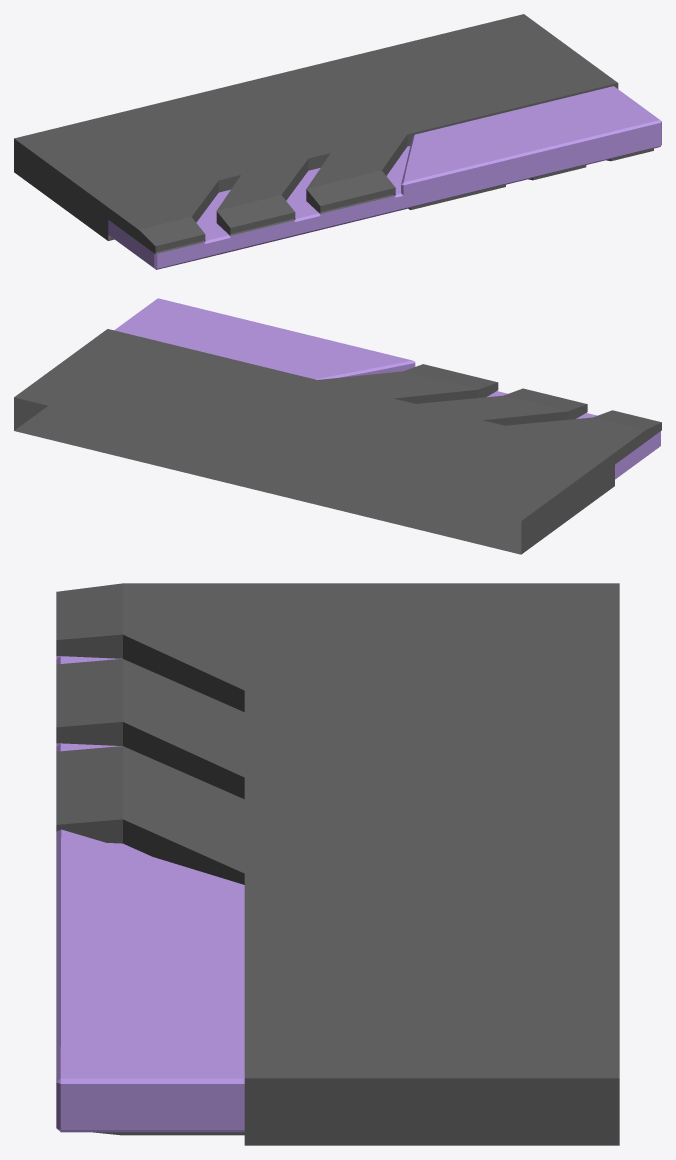
File: SM_Ram.fbx
3 views of the same model, one above another, from view 1: azimuth 30°, elevation 25°; view 2: azimuth 150°, elevation 25°; view 3: azimuth 270°, elevation 25° (orthographic). The views are drawn at different scales.
Parts seen in each view (by area): view 1: polySurface205; view 2: polySurface205; view 3: polySurface205.
Part boxes in pixels (<box>): polySurface205: <box>14,14,661,269</box>; polySurface205: <box>14,298,661,554</box>; polySurface205: <box>56,583,619,1145</box>.
Bounding box in the file's own units: 9.66 × 4.64 × 0.6163.
